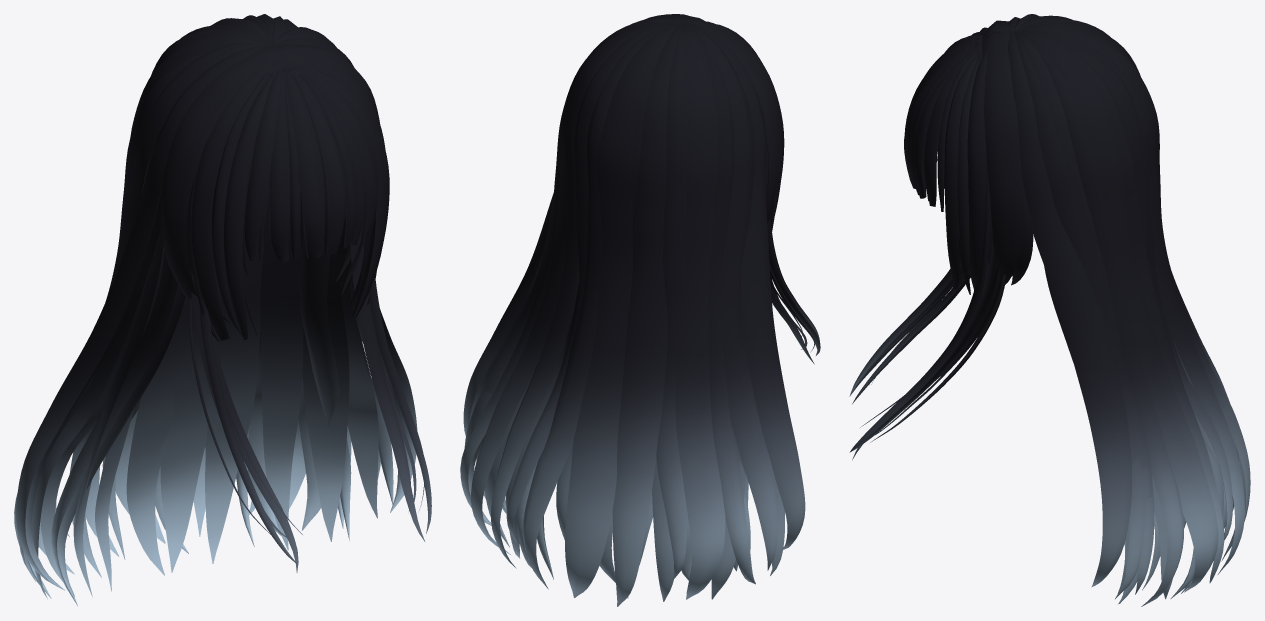
Rendered from vroid_hair_c17v4.glb.
3 renders of one model, left to right at view 1: azimuth 30°, elevation 25°; view 2: azimuth 150°, elevation 25°; view 3: azimuth 270°, elevation 25°, orthographic. The views are drawn at different scales.
Visible parts, largest first — view 1: hair; view 2: hair; view 3: hair.
Boxes of the visible parts, bbox=[...] form: hair: bbox=[14, 14, 431, 605]; hair: bbox=[460, 14, 820, 606]; hair: bbox=[849, 14, 1250, 606].
Size of the model in its own units: 0.385 by 0.5605 by 0.3805.
Materials: 1 (1 with a texture image).
